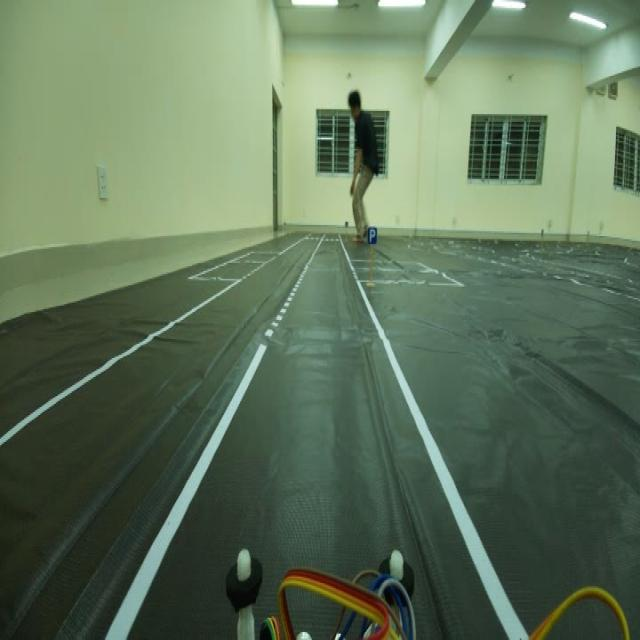parking: (364, 218, 381, 254)
